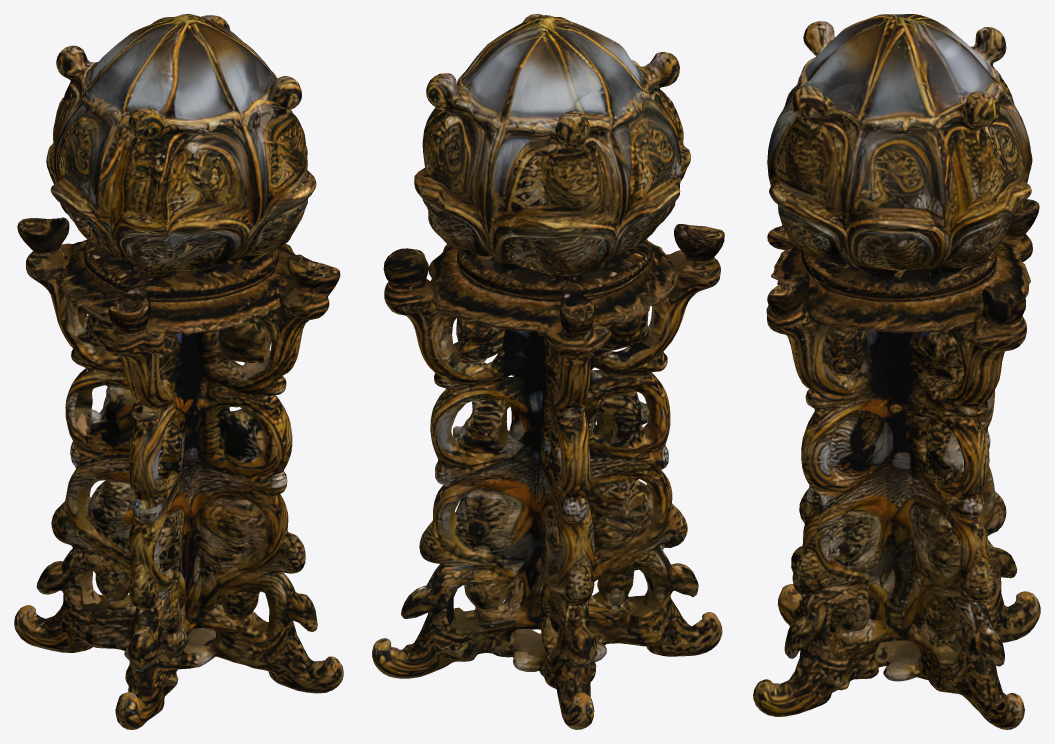
3 views of the same model, side by side, from view 1: azimuth 30°, elevation 25°; view 2: azimuth 150°, elevation 25°; view 3: azimuth 270°, elevation 25° (orthographic). The views are drawn at different scales.
Parts seen in each view (by area): view 1: textured_mesh; view 2: textured_mesh; view 3: textured_mesh.
Part boxes in pixels (x1,y1,x2,y2): textured_mesh: (14, 14, 343, 729); textured_mesh: (372, 14, 724, 729); textured_mesh: (753, 14, 1040, 729).
Size of the model in its own units: 0.7876 by 1.99 by 0.784.
1 material, 1 textured.
